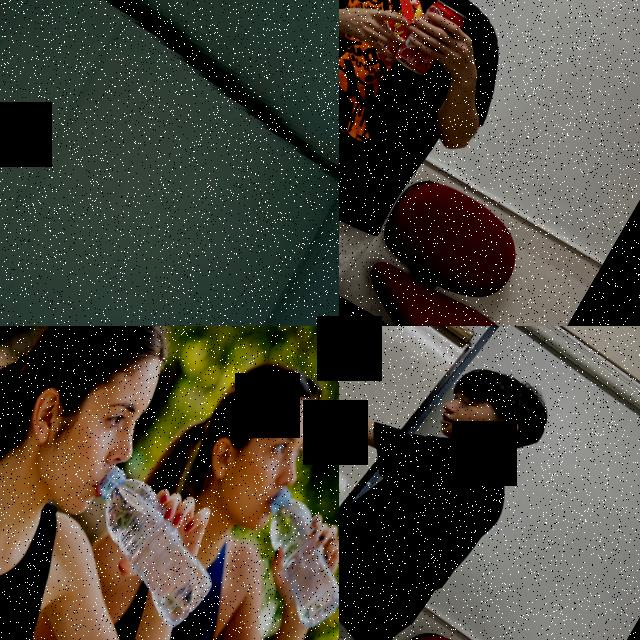bottle: (48, 451, 245, 635), (195, 472, 339, 640)
can: (389, 0, 469, 84)
